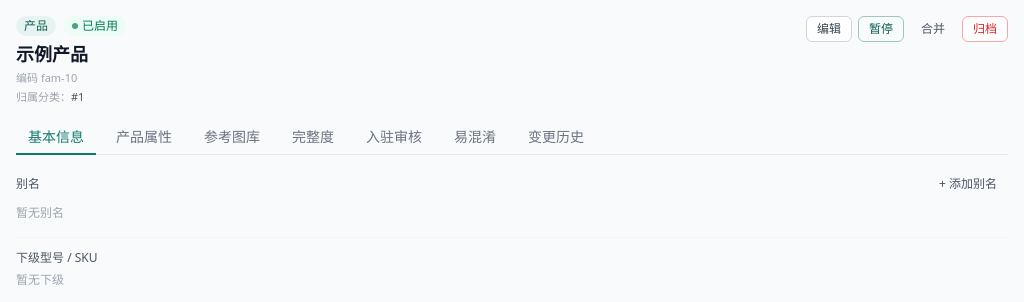
EntityDetail › family 层显示 Gate B 治理 Tab 且惰性挂载（切到才请求）
Expected: the tab with test id "detail-tab-onboarding" is shown, x1=354 y1=121 x2=434 y2=155
Expected: the tab with test id "detail-tab-confusions" is shown, x1=442 y1=121 x2=508 y2=155
Note: 切到完整度 Tab 后面板挂载
Click the tab with test id "detail-tab-readiness" at [313, 138], box x1=280 y1=121 x2=346 y2=155
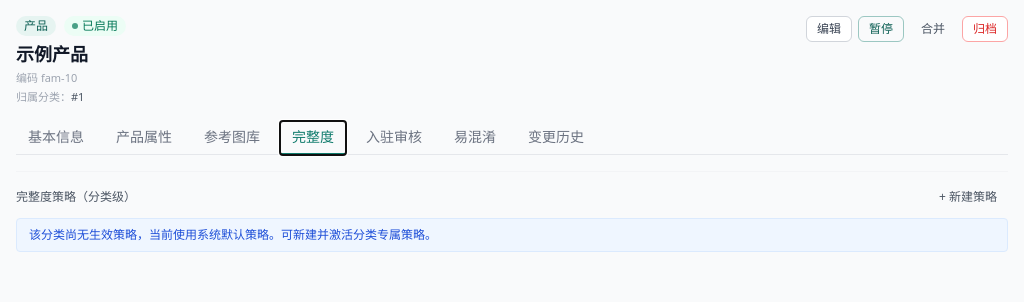
Now the element with test id "detail-tabpanel-readiness" is shown, box x1=16 y1=171 x2=1008 y2=252
